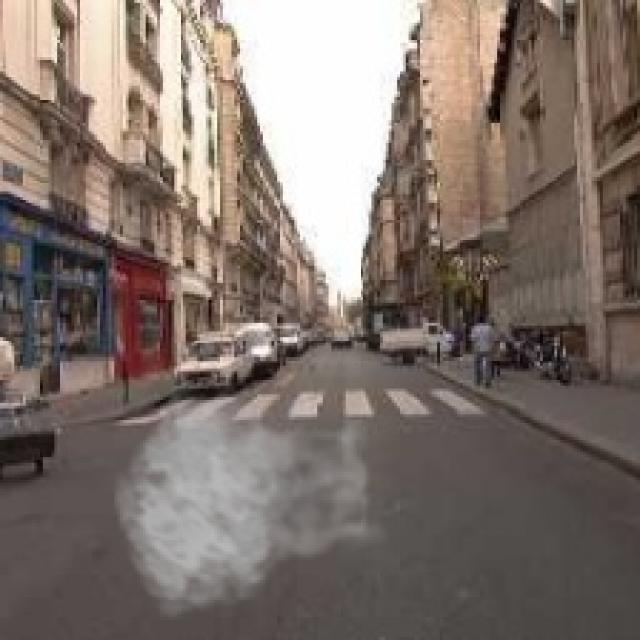Smoke: (111, 374, 392, 620)
